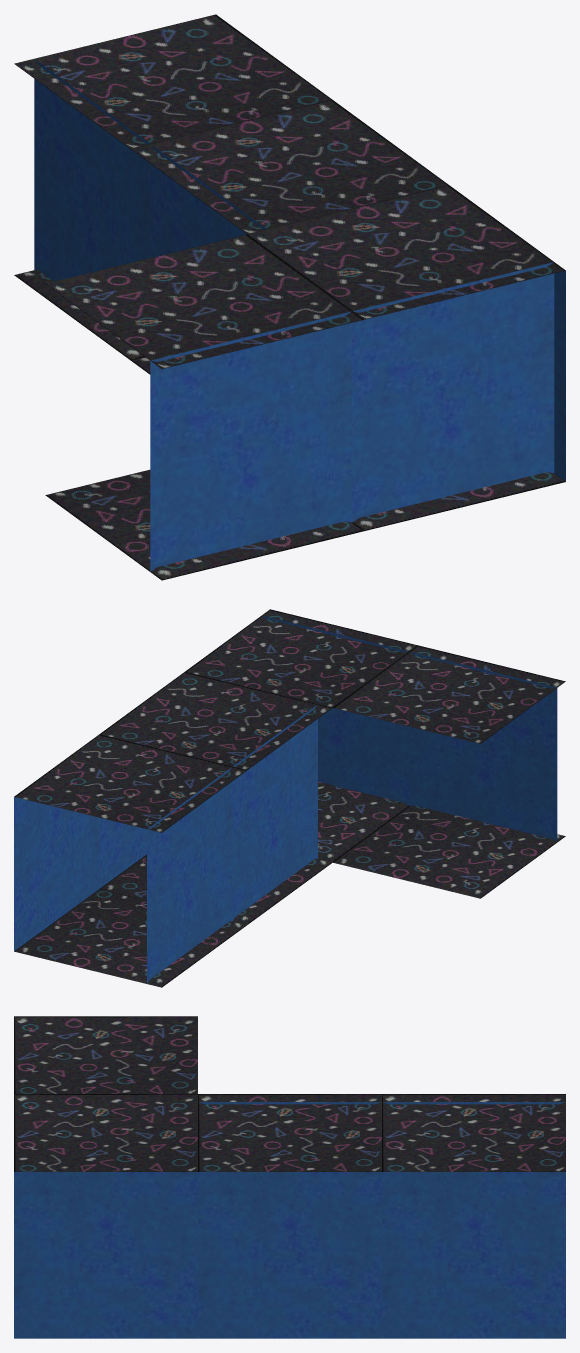
The model's file is Small_Map.glb.
3 renders of one model, top to bottom at view 1: azimuth 30°, elevation 25°; view 2: azimuth 150°, elevation 25°; view 3: azimuth 270°, elevation 25°, orthographic. The views are drawn at different scales.
Parts seen in each view (by area): view 1: Small; view 2: Small; view 3: Small.
Boxes of the visible parts, box(x1,y1,x2,y2) form: Small: box(14, 14, 565, 580); Small: box(14, 609, 565, 987); Small: box(14, 1016, 565, 1338).
Size of the model in its own units: 4 by 2 by 6.
2 materials, 2 textured.
